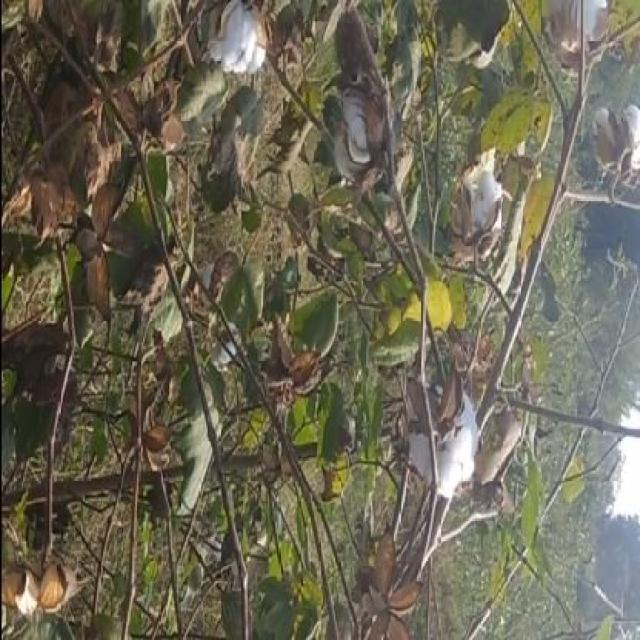cotton_ready: (387, 375, 490, 517), (328, 84, 404, 191), (205, 1, 281, 105), (441, 162, 508, 248), (595, 92, 639, 217)
